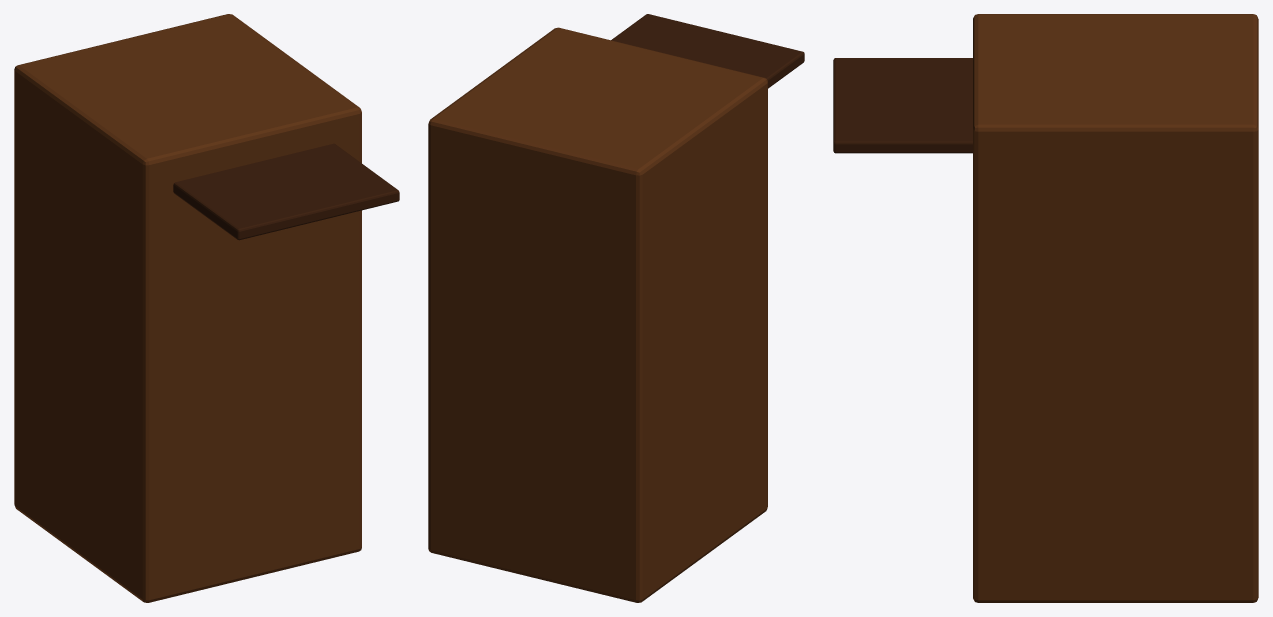
File: siege_tower_traversable_LOD1.glb
3 renders of one model, left to right at view 1: azimuth 30°, elevation 25°; view 2: azimuth 150°, elevation 25°; view 3: azimuth 270°, elevation 25°, orthographic. The views are drawn at different scales.
Parts seen in each view (by area): view 1: LOD1_Tower, LOD1_Bridge; view 2: LOD1_Tower, LOD1_Bridge; view 3: LOD1_Tower, LOD1_Bridge.
Boxes of the visible parts, x1,y1,x2,y2 form: LOD1_Tower: [14, 14, 361, 602]; LOD1_Bridge: [173, 143, 399, 240]; LOD1_Tower: [428, 27, 767, 602]; LOD1_Bridge: [611, 14, 804, 88]; LOD1_Tower: [973, 14, 1258, 602]; LOD1_Bridge: [833, 58, 972, 153].
Size of the model in its own units: 4.05 by 7.85 by 6.33.
